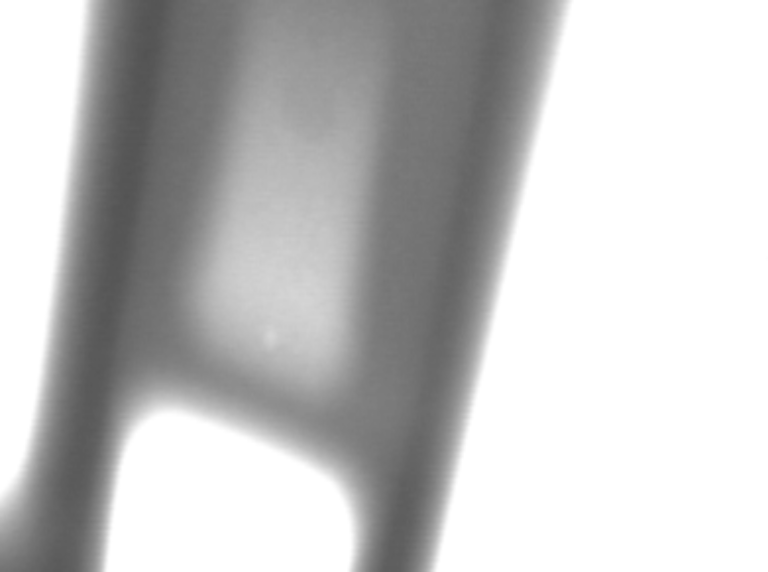defect: (265, 335, 285, 367)
